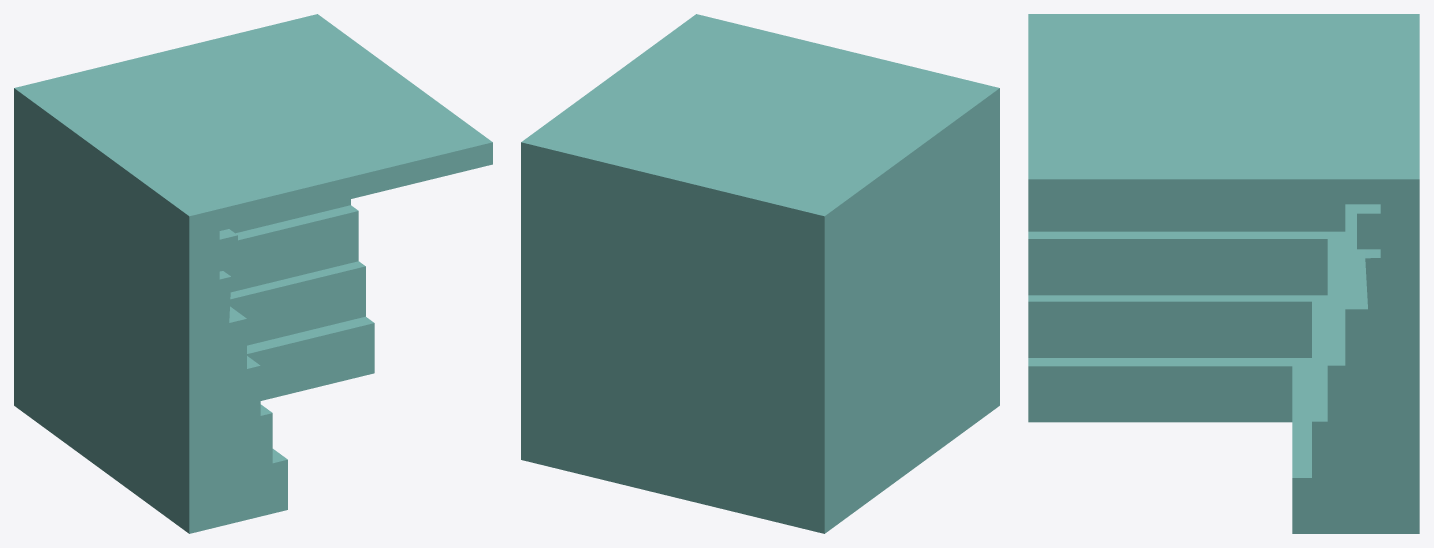
Rendered from EspacioInicialEsquinaCierreInteriorBajoNI.gltf.
3 views of the same model, side by side, from view 1: azimuth 30°, elevation 25°; view 2: azimuth 150°, elevation 25°; view 3: azimuth 270°, elevation 25° (orthographic). The views are drawn at different scales.
Parts seen in each view (by area): view 1: Pared interior Esquina; view 2: Pared interior Esquina; view 3: Pared interior Esquina.
Part boxes in pixels (box(x1,y1,x2,y2)): Pared interior Esquina: box(14, 14, 492, 533); Pared interior Esquina: box(521, 14, 999, 533); Pared interior Esquina: box(1028, 14, 1419, 533).
Size of the model in its own units: 2 by 2 by 2.
